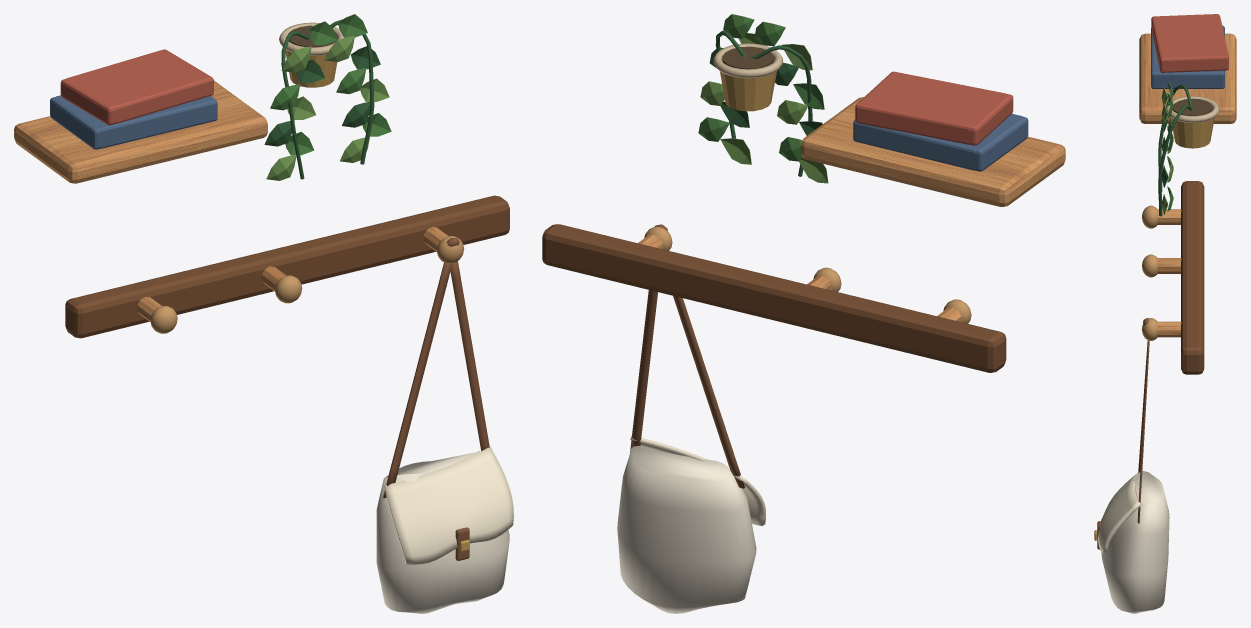
The picture shows the model from 3 angles, left to right: view 1: azimuth 30°, elevation 25°; view 2: azimuth 150°, elevation 25°; view 3: azimuth 270°, elevation 25°; orthographic projection. The views are drawn at different scales.
Parts seen in each view (by area): view 1: loft_wood_dark, loft_oak, loft_cream, loft_linen, loft_red, loft_leather, loft_blue, loft_leaf_dark, loft_leaf, loft_leaf_light, loft_wood_edge, loft_ochre; view 2: loft_wood_dark, loft_linen, loft_oak, loft_red, loft_blue, loft_leather, loft_leaf_light, loft_leaf, loft_leaf_dark, loft_ochre, loft_cream, loft_wood_edge (+2 smaller); view 3: loft_linen, loft_wood_dark, loft_oak, loft_red, loft_blue, loft_cream, loft_ochre, loft_leaf_dark, loft_wood_edge, loft_leather, loft_ceramic, loft_soil (+2 smaller).
Part boxes in pixels (x1=…): loft_wood_dark: x1=65, y1=195, x2=509, y2=338; loft_oak: x1=14, y1=80, x2=448, y2=321; loft_cream: x1=384, y1=446, x2=513, y2=564; loft_linen: x1=376, y1=451, x2=509, y2=613; loft_red: x1=60, y1=49, x2=213, y2=125; loft_leather: x1=383, y1=238, x2=489, y2=560; loft_blue: x1=50, y1=95, x2=217, y2=149; loft_leaf_dark: x1=264, y1=19, x2=380, y2=179; loft_leaf: x1=270, y1=14, x2=391, y2=155; loft_leaf_light: x1=266, y1=36, x2=389, y2=180; loft_wood_edge: x1=150, y1=236, x2=464, y2=333; loft_ochre: x1=285, y1=50, x2=337, y2=87; loft_wood_dark: x1=542, y1=224, x2=1006, y2=372; loft_linen: x1=617, y1=446, x2=756, y2=613; loft_oak: x1=638, y1=97, x2=1065, y2=322; loft_red: x1=855, y1=71, x2=1013, y2=145; loft_blue: x1=853, y1=113, x2=1028, y2=171; loft_leather: x1=630, y1=224, x2=744, y2=488; loft_leaf_light: x1=700, y1=33, x2=828, y2=183; loft_leaf: x1=698, y1=14, x2=824, y2=161; loft_leaf_dark: x1=709, y1=30, x2=822, y2=176; loft_ochre: x1=720, y1=60, x2=776, y2=111; loft_cream: x1=630, y1=435, x2=765, y2=525; loft_wood_edge: x1=644, y1=226, x2=971, y2=323; loft_linen: x1=1101, y1=471, x2=1169, y2=613; loft_wood_dark: x1=1181, y1=181, x2=1204, y2=374; loft_oak: x1=1139, y1=33, x2=1236, y2=337; loft_red: x1=1151, y1=14, x2=1228, y2=72; loft_blue: x1=1151, y1=25, x2=1224, y2=88; loft_cream: x1=1098, y1=473, x2=1141, y2=552; loft_ochre: x1=1170, y1=110, x2=1214, y2=148; loft_leaf_dark: x1=1158, y1=84, x2=1192, y2=216; loft_wood_edge: x1=1142, y1=205, x2=1157, y2=340; loft_leather: x1=1097, y1=318, x2=1149, y2=549; loft_ceramic: x1=1166, y1=96, x2=1219, y2=122; loft_soil: x1=1172, y1=98, x2=1212, y2=115.
Size of the model in its own units: 1.88 by 2.29 by 0.615.
16 materials, 1 textured.
